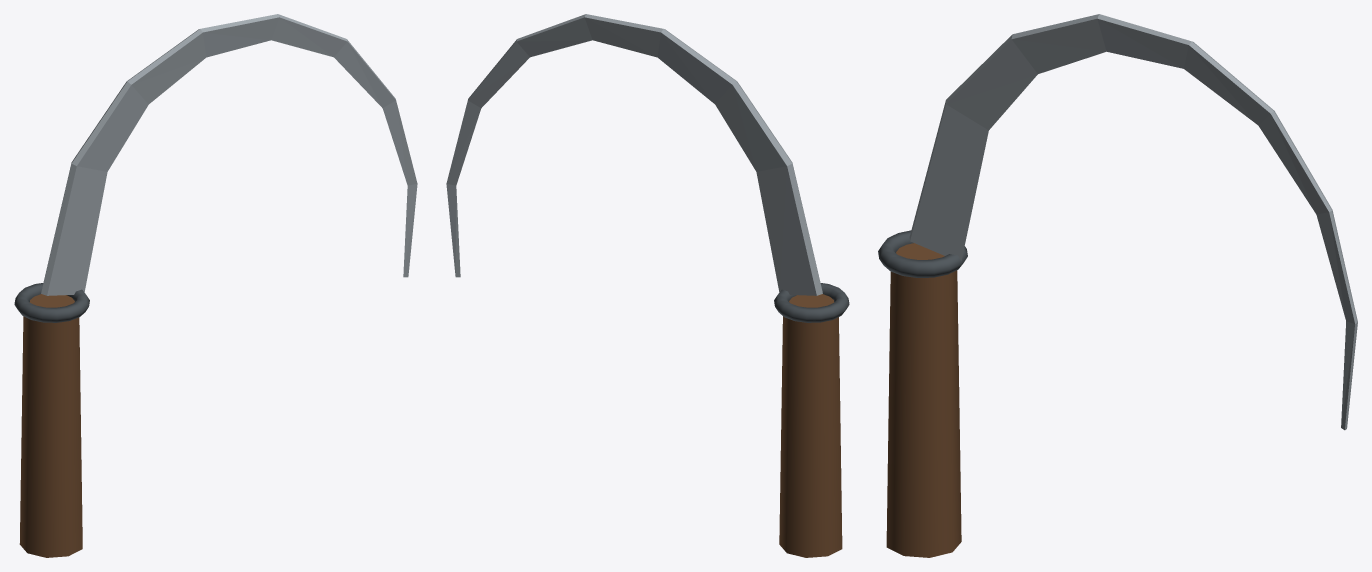
File: sickle.glb
3 renders of one model, left to right at view 1: azimuth 30°, elevation 25°; view 2: azimuth 150°, elevation 25°; view 3: azimuth 330°, elevation 25°, orthographic. The views are drawn at different scales.
Visible parts, largest first — view 1: sickle-blade, sickle-grip, sickle-ferrule; view 2: sickle-blade, sickle-grip, sickle-ferrule; view 3: sickle-blade, sickle-grip, sickle-ferrule.
Boxes of the visible parts, x1,y1,x2,y2 form: sickle-blade: (41, 14, 417, 295); sickle-grip: (19, 294, 82, 557); sickle-ferrule: (14, 283, 89, 322); sickle-blade: (446, 14, 822, 295); sickle-grip: (779, 294, 842, 557); sickle-ferrule: (774, 283, 849, 322); sickle-blade: (909, 14, 1357, 430); sickle-grip: (886, 243, 961, 557); sickle-ferrule: (878, 230, 967, 277).
Bounding box in the file's own units: 0.1874 × 0.2158 × 0.0311.
